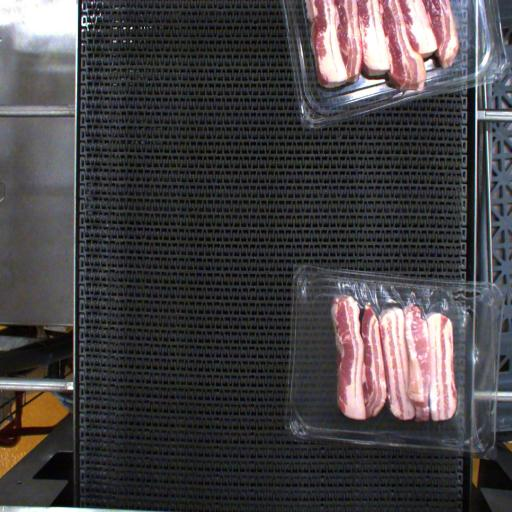unsealed: (312, 275, 488, 384)
